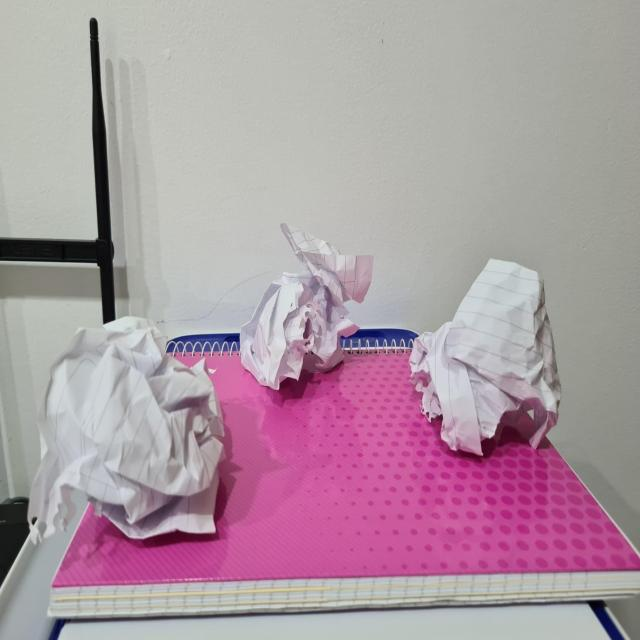kertas: (42, 315, 215, 528), (417, 263, 554, 442), (234, 242, 376, 380)
